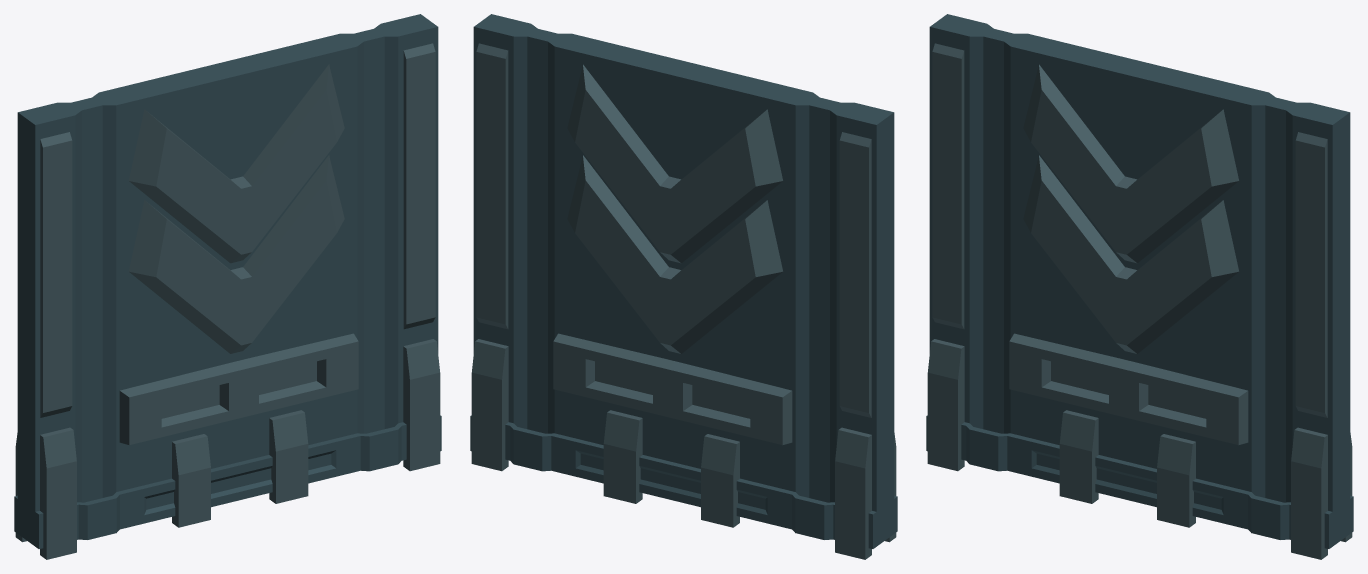
Rendered from SM_Door.fbx.
3 renders of one model, left to right at view 1: azimuth 30°, elevation 25°; view 2: azimuth 150°, elevation 25°; view 3: azimuth 330°, elevation 25°, orthographic.
Visible parts, largest first — view 1: SM_Door_1; view 2: SM_Door_1; view 3: SM_Door_1.
Part boxes in pixels (x1,y1,x2,y2): SM_Door_1: (14,14,441,559); SM_Door_1: (470,14,897,559); SM_Door_1: (926,14,1353,559).
Size of the model in its own units: 3 by 3.07 by 0.4803.
